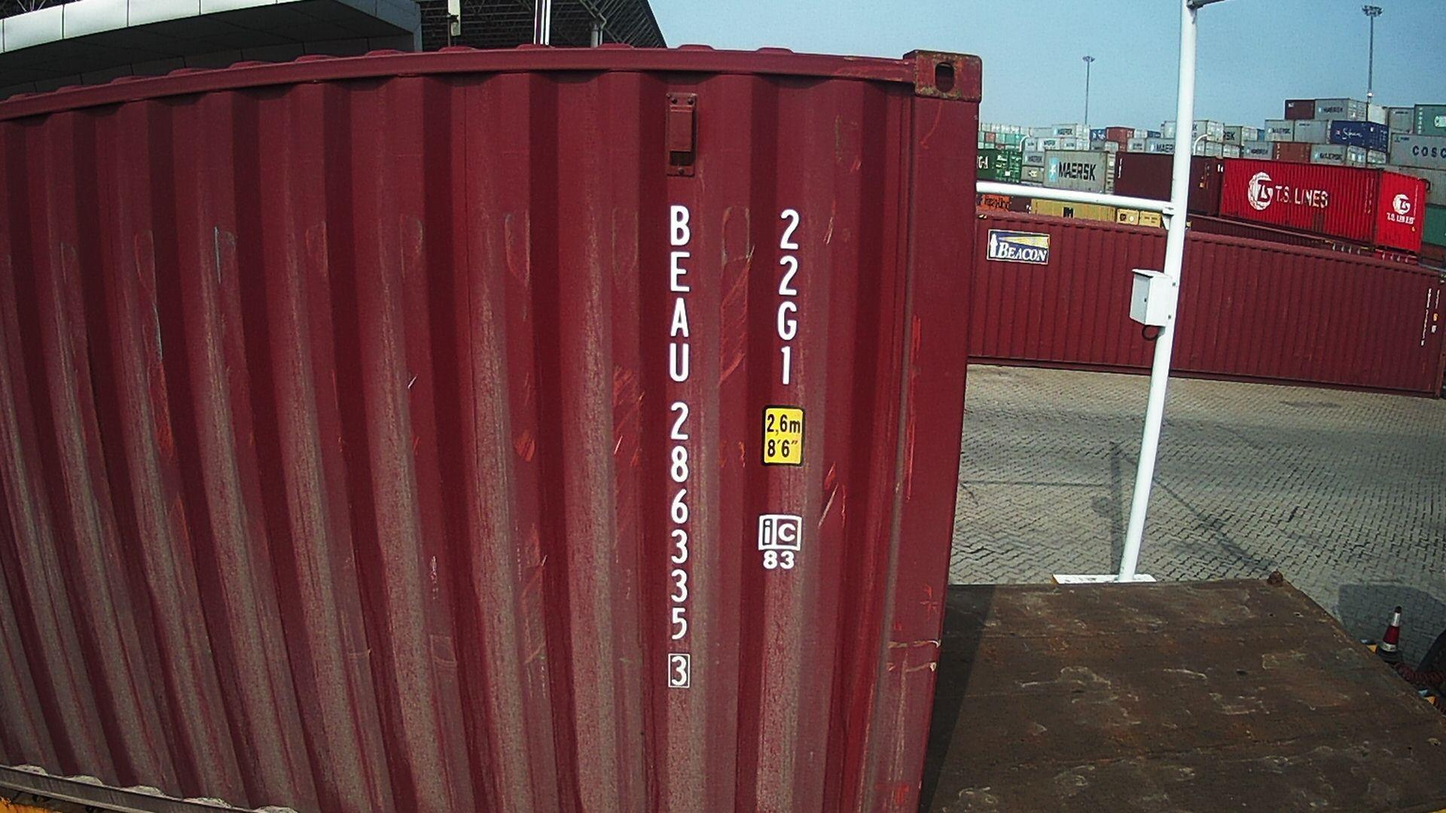container-numbers: (658, 201, 699, 695), (770, 205, 809, 393)
